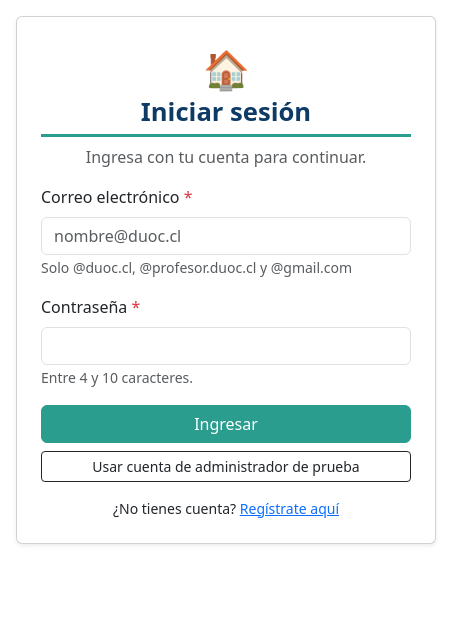
Test case: Formulario de inicio de sesión › Muestra un error si las credenciales no corresponden a ningún usuario
Step 1. Type "nadie@gmail.com" into the field labelled "Correo electrónico *" → (226, 236), box x1=41 y1=217 x2=411 y2=255
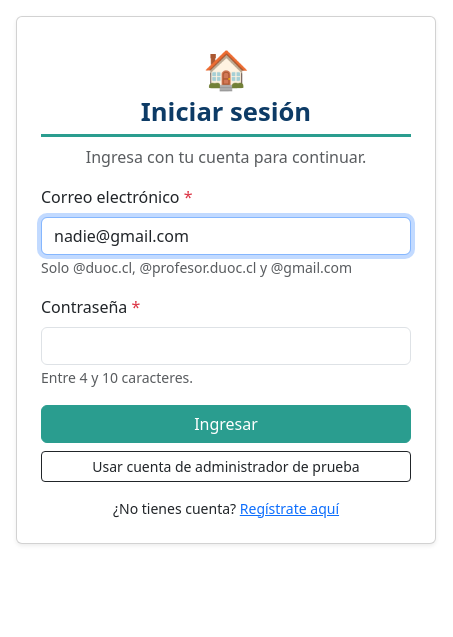
Step 2. Type "clave1" into the password field labelled "Contraseña *" → (226, 346), box x1=41 y1=327 x2=411 y2=365
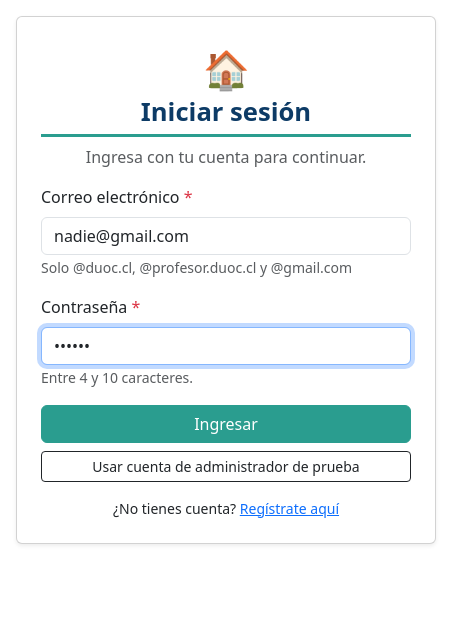
Step 3. Click the button "Ingresar" → (226, 424), box x1=41 y1=405 x2=411 y2=443
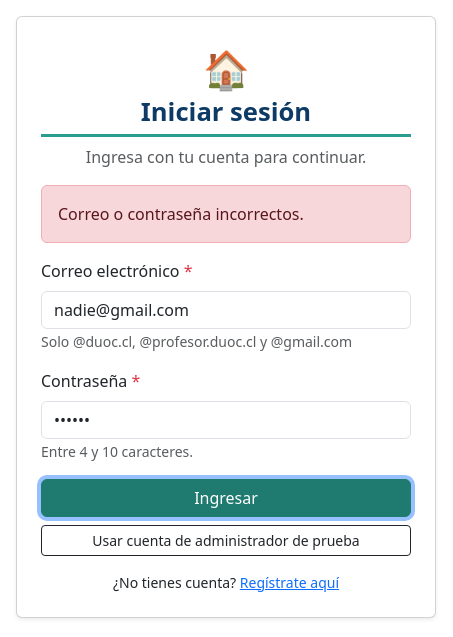
Expected: the text "Correo o contraseña incorrectos." is shown, x1=41 y1=185 x2=411 y2=243
